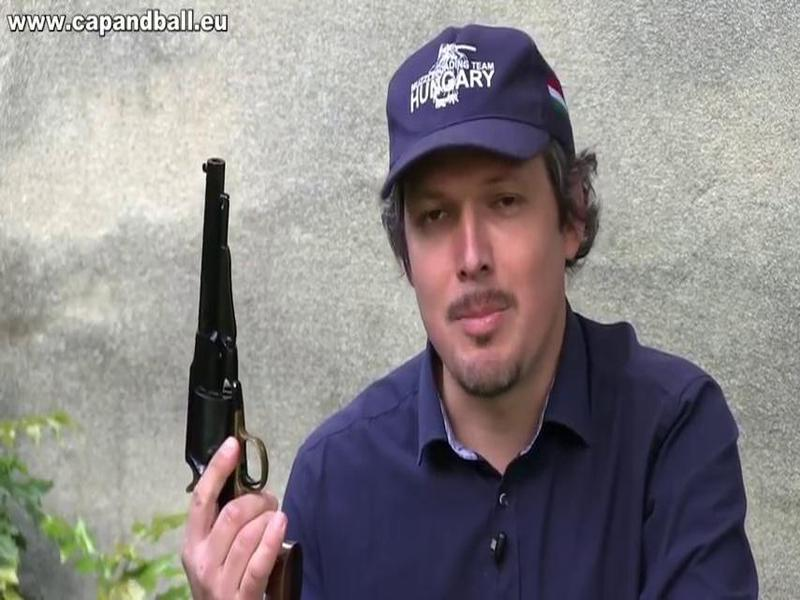Revolver: (146, 121, 327, 600)
